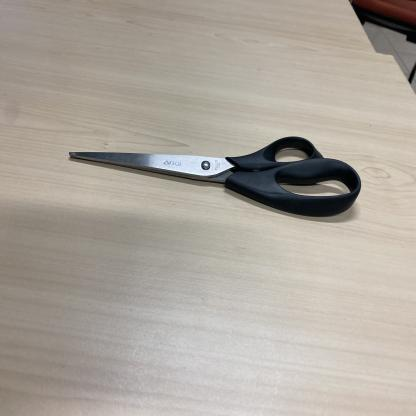scissors: (70, 136, 362, 218)
